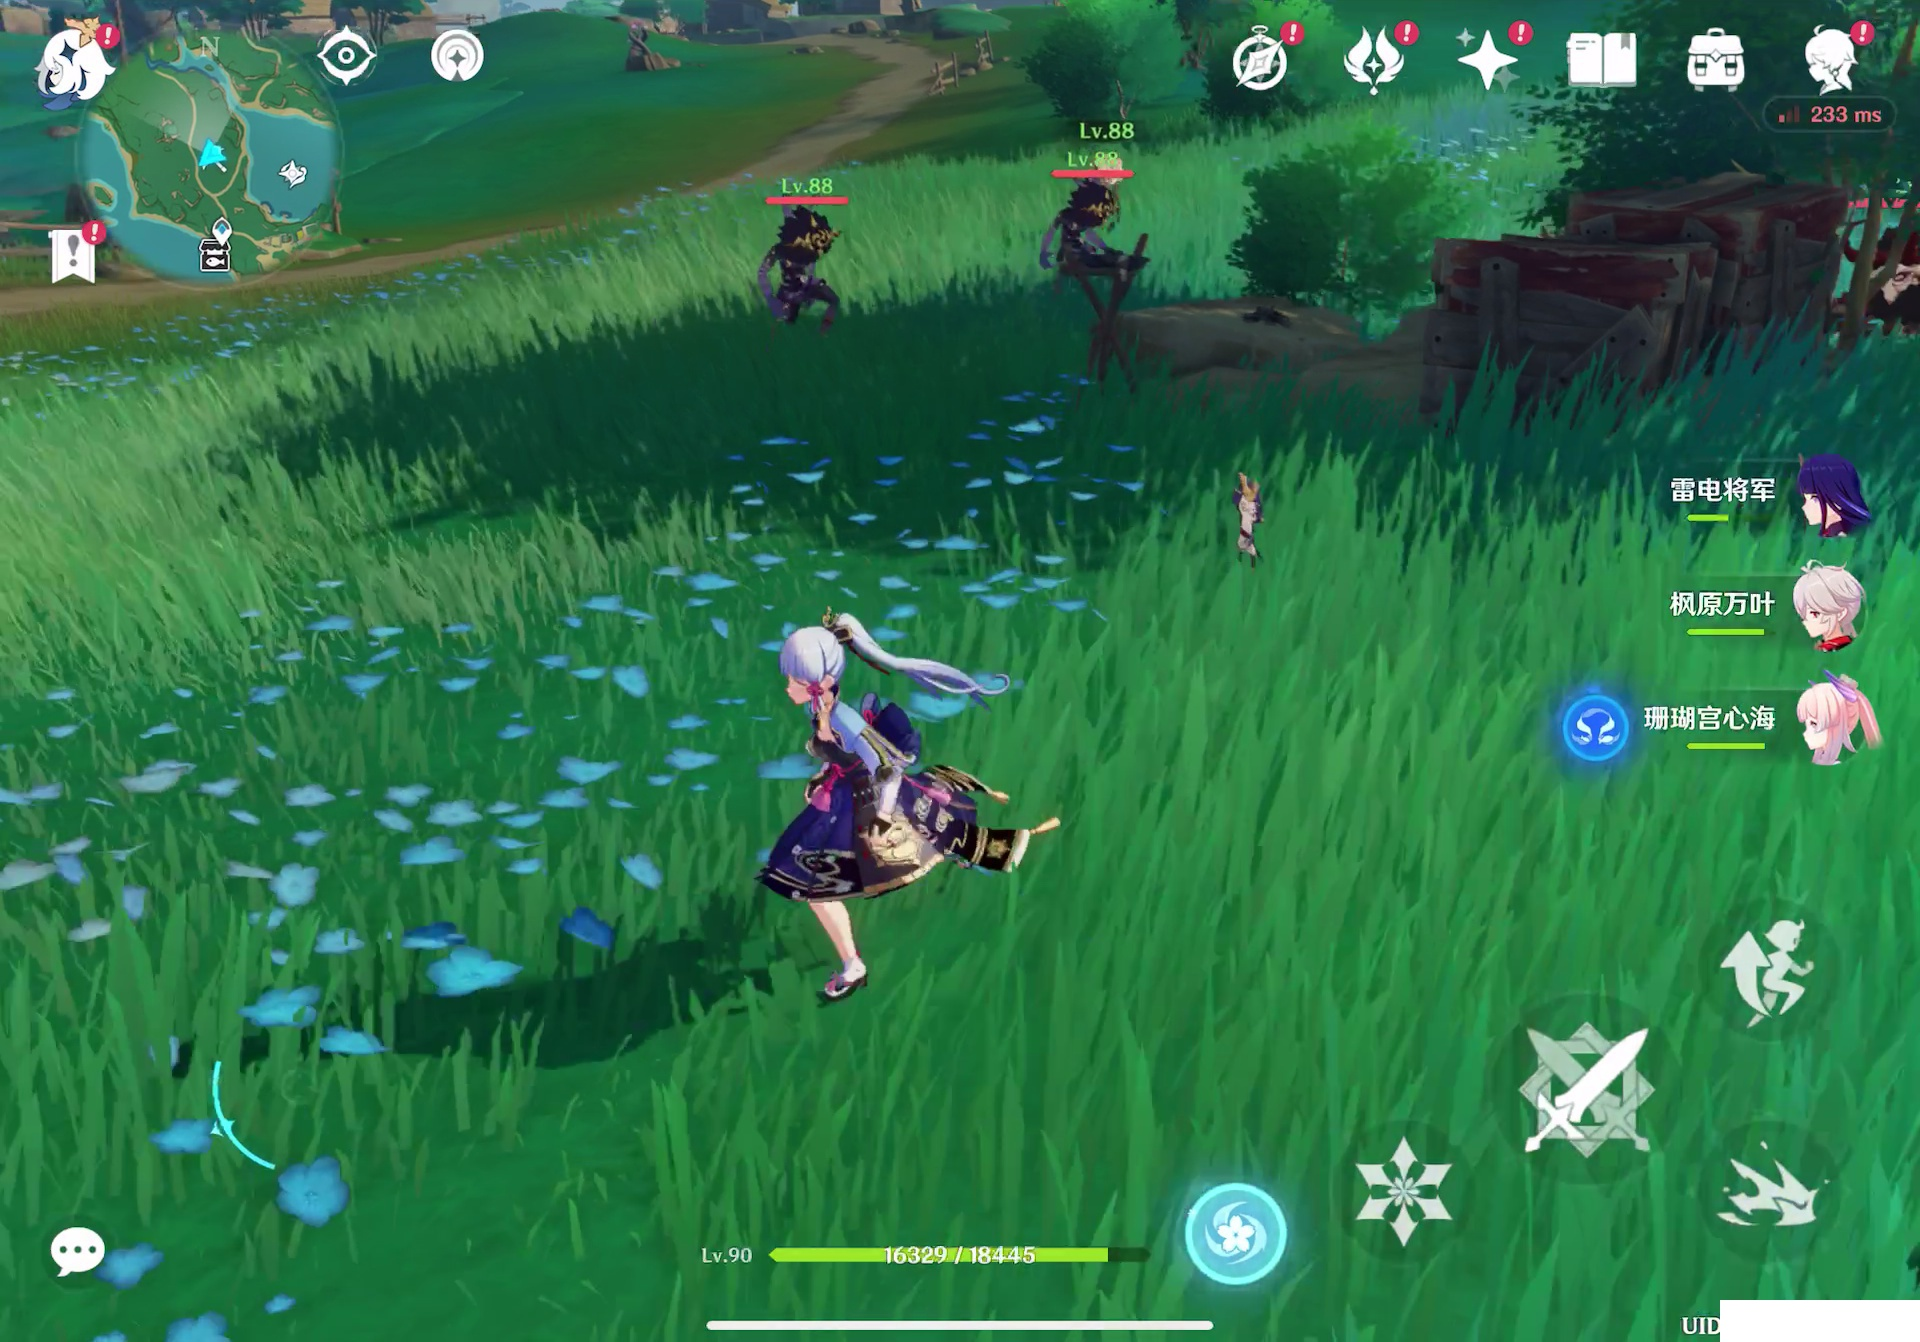丘丘人: (753, 212, 861, 341), (1050, 191, 1137, 280)
神里绫龟: (700, 611, 1078, 1001)
